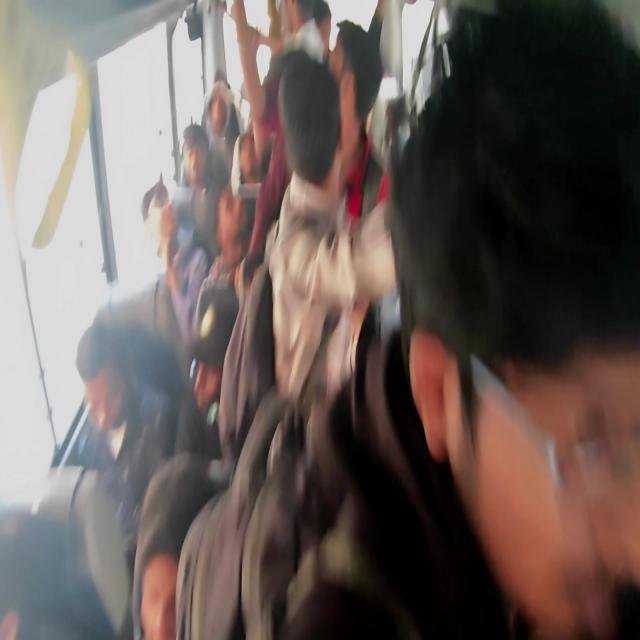person: (370, 69, 640, 640), (104, 442, 245, 640), (280, 69, 356, 266), (0, 478, 75, 640), (74, 322, 144, 454), (190, 286, 242, 406), (336, 25, 384, 154), (139, 166, 194, 262), (175, 121, 228, 201), (267, 0, 324, 71), (210, 184, 250, 266), (234, 134, 268, 192), (208, 97, 240, 152), (240, 85, 268, 147), (318, 0, 342, 57), (213, 63, 237, 87)
